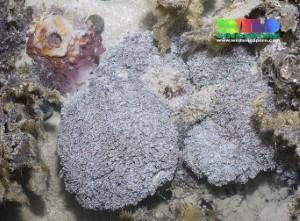bleached_corals: (32, 30, 193, 221), (174, 44, 277, 190), (131, 20, 247, 136), (178, 78, 277, 190)
